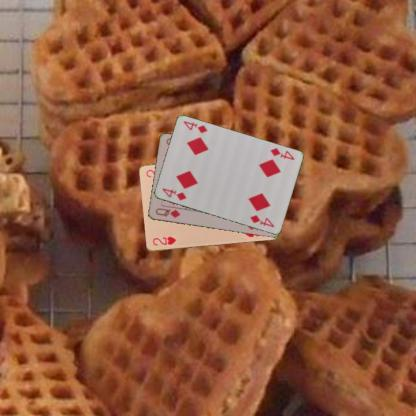2h: (150, 234, 178, 247)
4d: (160, 186, 187, 202), (268, 145, 295, 161)
Qd: (152, 206, 182, 219)
